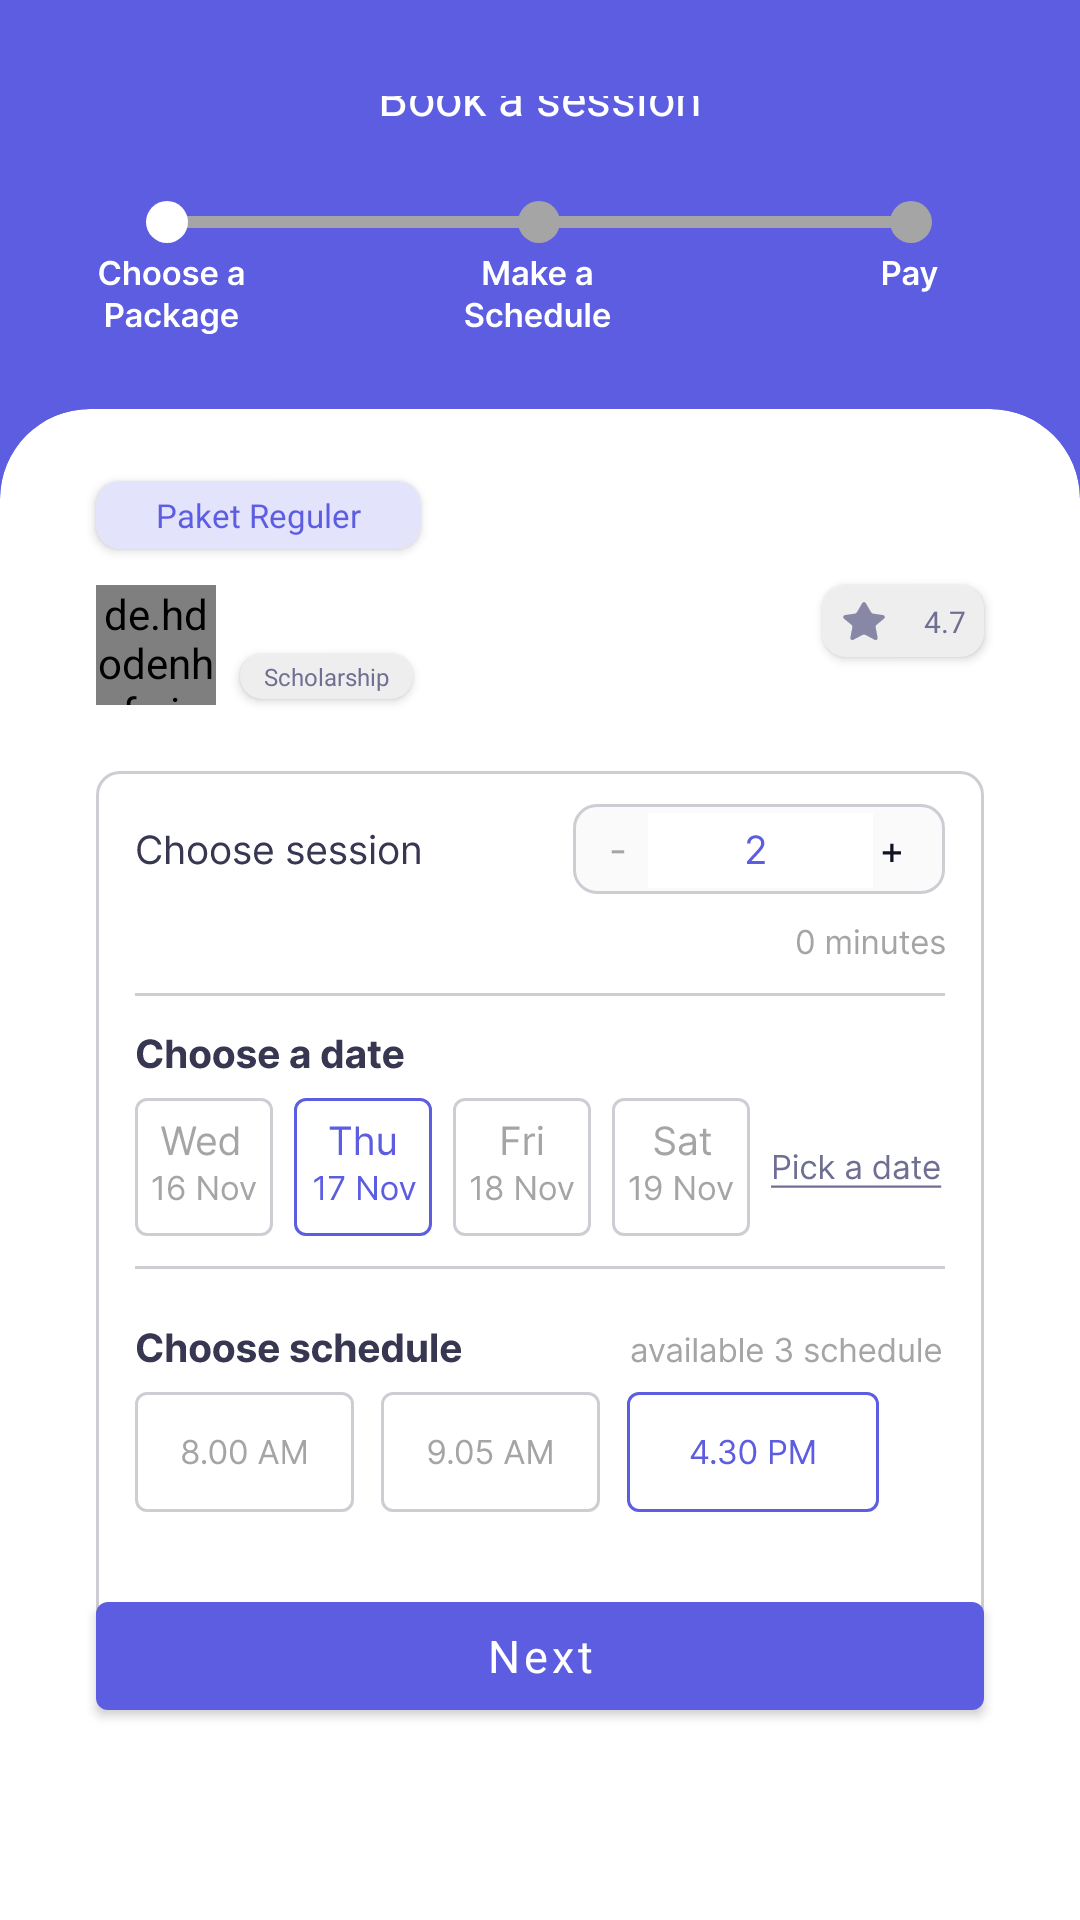

Locate icon controls on the screen. Image size 1080px×1920px, boxes as bbox(x1, y1, x2, y2).
rating: bbox(843, 602, 885, 640)
